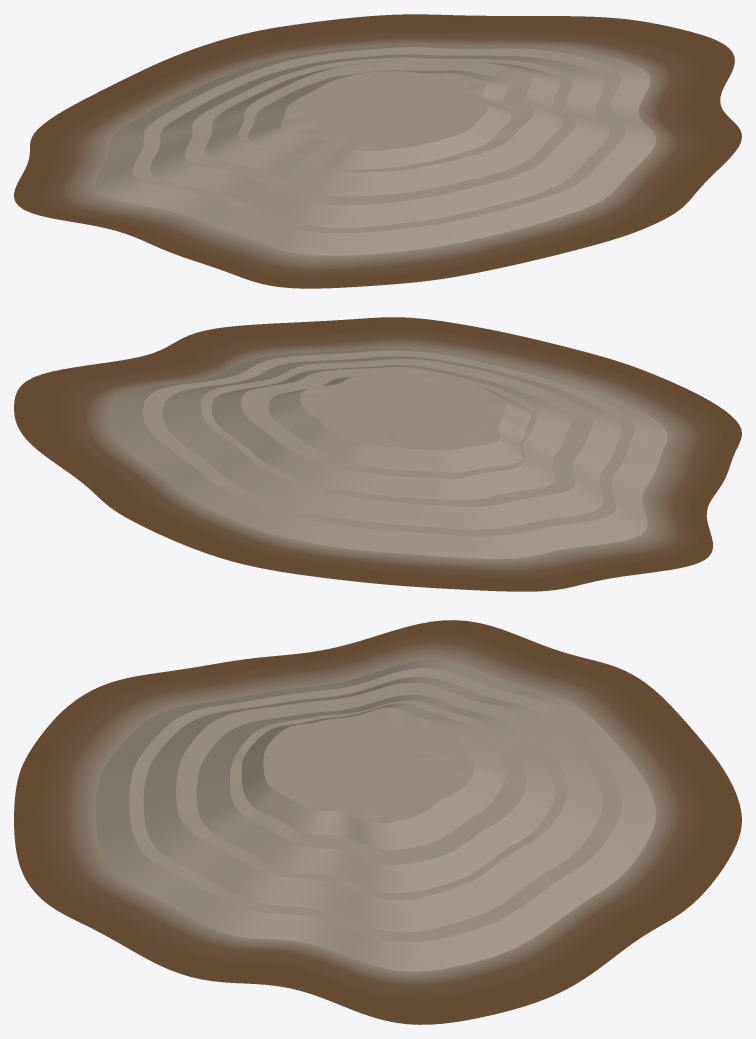
File: cover.glb
3 views of the same model, one above another, from view 1: azimuth 30°, elevation 25°; view 2: azimuth 150°, elevation 25°; view 3: azimuth 270°, elevation 25° (orthographic). The views are drawn at different scales.
Visible parts, largest first — view 1: CoverToeTransition, CoverSlope01, CoverSlope02, CoverSlope03, CoverBench01, CoverSoil, CoverBench02, CoverSlope04, CoverBench03, CoverBench04, CoverTop; view 2: CoverToeTransition, CoverSlope01, CoverSlope02, CoverSlope03, CoverBench01, CoverSoil, CoverSlope04, CoverBench02, CoverBench03, CoverBench04, CoverTop; view 3: CoverToeTransition, CoverSlope01, CoverSlope02, CoverSlope03, CoverSoil, CoverBench01, CoverSlope04, CoverBench02, CoverBench03, CoverBench04, CoverTop.
Part boxes in pixels (bbox=[...]): CoverToeTransition: bbox=[14, 14, 741, 288]; CoverSlope01: bbox=[95, 44, 656, 255]; CoverSlope02: bbox=[150, 54, 609, 227]; CoverSlope03: bbox=[205, 62, 563, 196]; CoverBench01: bbox=[132, 47, 625, 232]; CoverSoil: bbox=[305, 71, 479, 144]; CoverBench02: bbox=[185, 57, 576, 205]; CoverSlope04: bbox=[247, 70, 511, 169]; CoverBench03: bbox=[238, 61, 534, 172]; CoverBench04: bbox=[280, 73, 488, 150]; CoverTop: bbox=[307, 76, 480, 140]; CoverToeTransition: bbox=[14, 317, 741, 591]; CoverSlope01: bbox=[108, 348, 667, 558]; CoverSlope02: bbox=[162, 356, 622, 529]; CoverSlope03: bbox=[212, 365, 570, 500]; CoverBench01: bbox=[142, 350, 635, 536]; CoverSoil: bbox=[316, 374, 490, 447]; CoverSlope04: bbox=[268, 376, 530, 472]; CoverBench02: bbox=[200, 359, 593, 506]; CoverBench03: bbox=[241, 367, 538, 478]; CoverBench04: bbox=[300, 372, 506, 450]; CoverTop: bbox=[308, 377, 481, 440]; CoverToeTransition: bbox=[14, 620, 741, 1024]; CoverSlope01: bbox=[96, 660, 655, 971]; CoverSlope02: bbox=[143, 676, 602, 932]; CoverSlope03: bbox=[196, 694, 554, 893]; CoverSoil: bbox=[266, 723, 474, 811]; CoverBench01: bbox=[129, 668, 621, 942]; CoverSlope04: bbox=[241, 703, 504, 849]; CoverBench02: bbox=[176, 682, 567, 900]; CoverBench03: bbox=[230, 700, 526, 864]; CoverBench04: bbox=[263, 707, 470, 823]; CoverTop: bbox=[282, 722, 454, 819].
Bounding box in the file's own units: 151 × 8.65 × 114.
